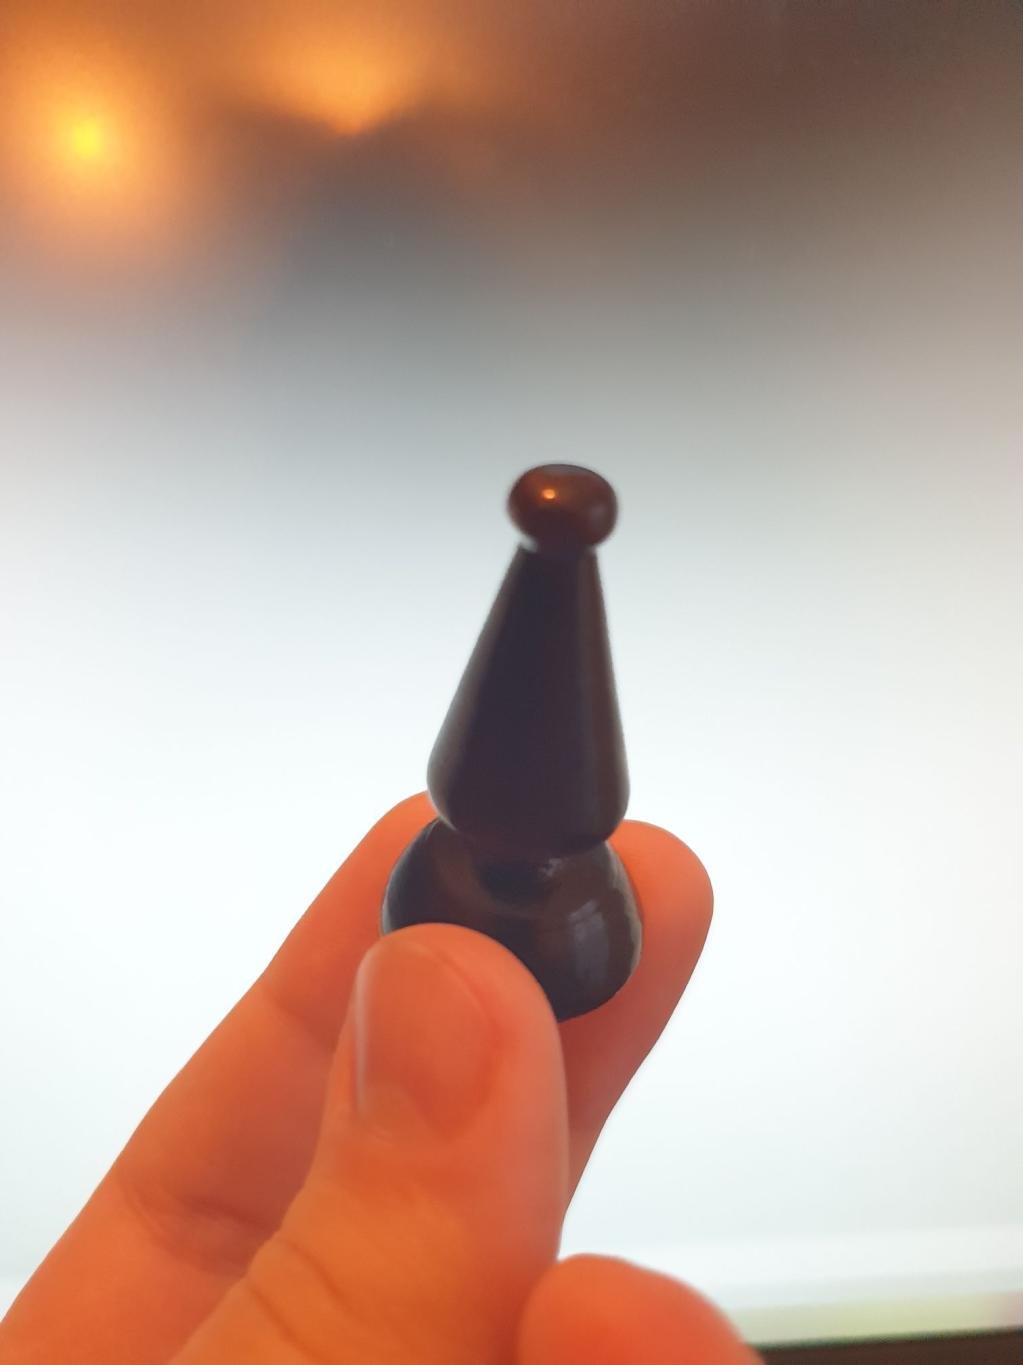bbishop: (380, 462, 645, 1022)
